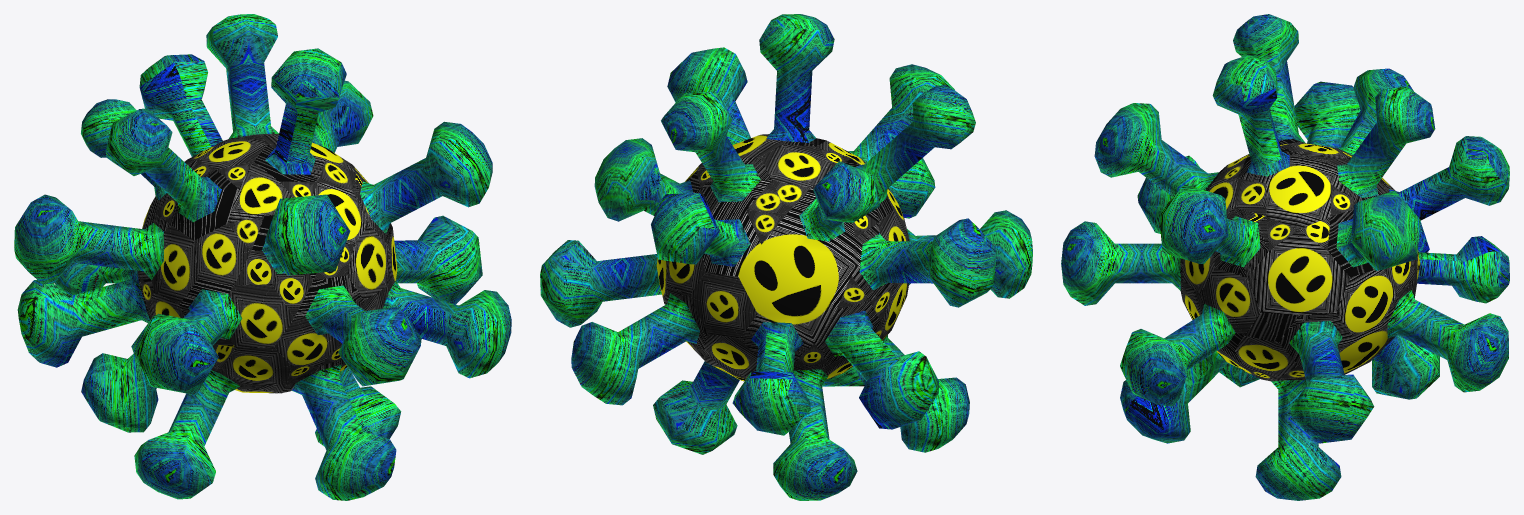
File: Corona.obj
3 views of the same model, side by side, from view 1: azimuth 30°, elevation 25°; view 2: azimuth 150°, elevation 25°; view 3: azimuth 270°, elevation 25° (orthographic). The views are drawn at different scales.
Parts seen in each view (by area): view 1: Icosphere_Icosphere.001; view 2: Icosphere_Icosphere.001; view 3: Icosphere_Icosphere.001.
Part boxes in pixels (x1=…): Icosphere_Icosphere.001: x1=14, y1=14, x2=511, y2=500; Icosphere_Icosphere.001: x1=540, y1=14, x2=1032, y2=500; Icosphere_Icosphere.001: x1=1061, y1=14, x2=1509, y2=500.
Size of the model in its own units: 4 by 3.69 by 3.69.
